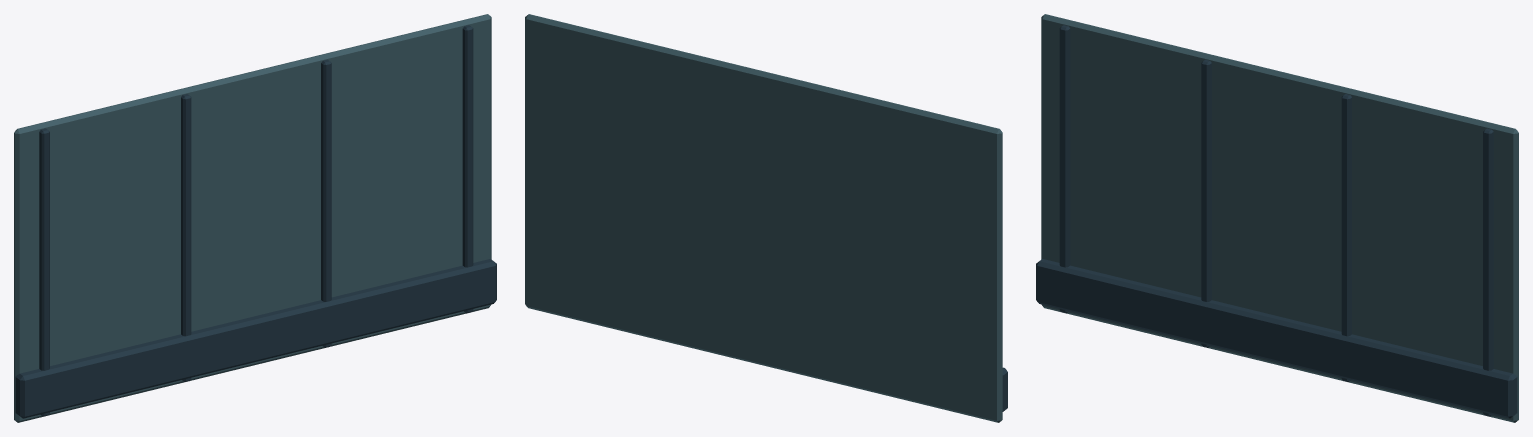
Rendered from wall-trim.glb.
3 renders of one model, left to right at view 1: azimuth 30°, elevation 25°; view 2: azimuth 150°, elevation 25°; view 3: azimuth 330°, elevation 25°, orthographic.
Parts seen in each view (by area): view 1: WallPanel, KickPlate, PanelFold.003, PanelFold, PanelFold.001, PanelFold.002; view 2: WallPanel; view 3: WallPanel, KickPlate, PanelFold, PanelFold.003, PanelFold.001, PanelFold.002.
Part boxes in pixels (x1,y1,x2,y2): WallPanel: (14, 14, 491, 422); KickPlate: (15, 259, 496, 418); PanelFold.003: (462, 25, 473, 313); PanelFold: (39, 128, 49, 416); PanelFold.001: (181, 94, 191, 381); PanelFold.002: (321, 59, 331, 347); WallPanel: (525, 14, 1002, 422); WallPanel: (1041, 14, 1518, 422); KickPlate: (1036, 259, 1517, 418); PanelFold: (1059, 25, 1070, 313); PanelFold.003: (1483, 128, 1493, 416); PanelFold.001: (1201, 59, 1211, 347); PanelFold.002: (1341, 94, 1351, 381).
Bounding box in the file's own units: 3.74 × 2.2 × 0.13.
